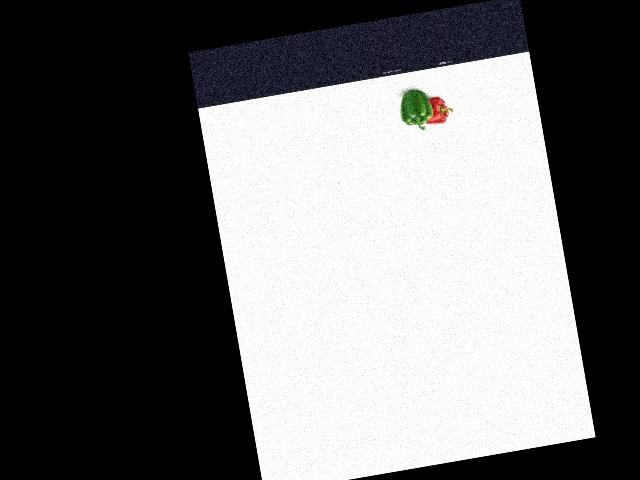bell_pepper: (420, 95, 455, 129)
